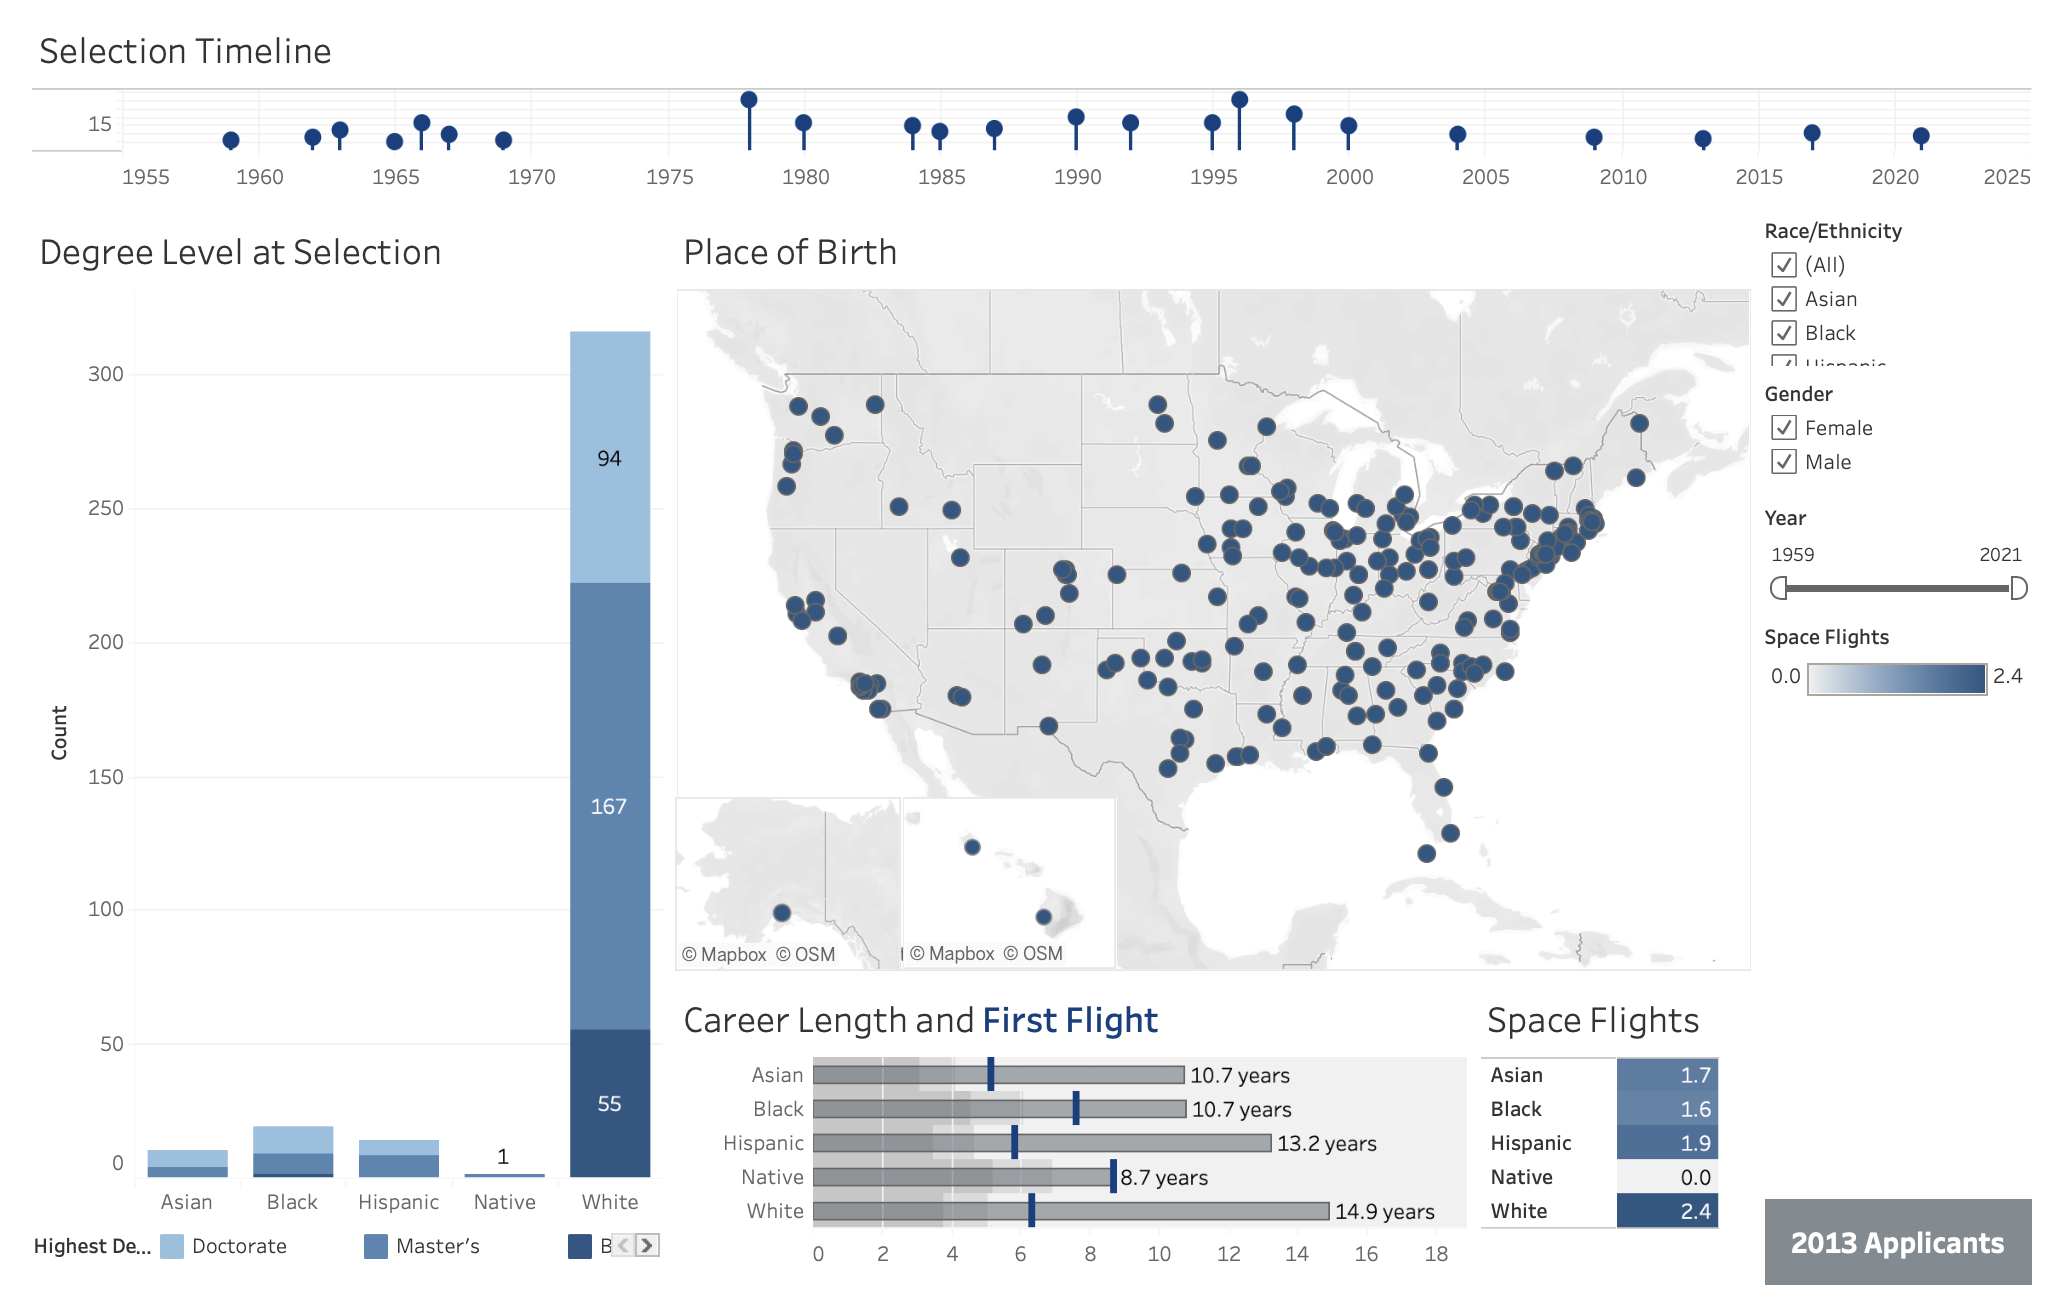

Layout of this report page (visuals, bound fields, positions):
{"tool":"tableau","page":{"name":"Dashboard 1","canvas":[1000,1000],"units":"permille","ordinal":0},"visuals":[{"type":"worksheet","title":"Selection Timeline","mark":"Automatic","rows":["Count (Astronauts)","Count (Astronauts)"],"cols":["Year (Astronauts)"],"box":[10.7,9.3,978.7,153.5]},{"type":"worksheet","title":"Degree Level at Selection","mark":"Automatic","rows":["Count (Astronauts)"],"cols":["Race/Ethnicity (Astronauts)"],"box":[10.7,162.8,282.2,774.4]},{"type":"worksheet","title":"Place of Birth","mark":"Automatic","box":[292.8,162.8,476.5,587.2]},{"type":"filter","title":"Selection Timeline","param":"[federated.0ywrk1g0wtzu3314f1k7y1yur643].[none:Race/Ethnicity (Astronauts):nk]","box":[769.3,162.8,220,169.8]},{"type":"filter","title":"Selection Timeline","param":"[federated.0ywrk1g0wtzu3314f1k7y1yur643].[none:Gender (Astronauts):nk]","box":[769.3,332.6,220,81.4]},{"type":"filter","title":"Selection Timeline","param":"[federated.0ywrk1g0wtzu3314f1k7y1yur643].[none:Year (Astronauts):qk]","box":[769.3,413.9,220,80.2]},{"type":"legend","title":"Space Flights","param":"[federated.0ywrk1g0wtzu3314f1k7y1yur643].[avg:Space Flights:qk]","box":[769.3,494.2,220,75.6]},{"type":"blank","box":[769.3,569.8,220,315.1]},{"type":"worksheet","title":"Place of Birth - Alaska","mark":"Automatic","box":[325,611.6,110.8,132.6]},{"type":"worksheet","title":"Place of Birth - Hawaii","mark":"Automatic","box":[436.7,612.8,105,130.2]},{"type":"worksheet","title":"Career Length and First Flight","mark":"Automatic","rows":["Race/Ethnicity (Astronauts)"],"cols":["Career Length"],"box":[292.8,750,352.2,240.7]},{"type":"worksheet","title":"Space Flights","mark":"Square","rows":["Race/Ethnicity (Astronauts)"],"box":[645,750,124.3,240.7]},{"type":"dashboard-object","box":[769.3,884.9,220,68.6]},{"type":"legend","title":"Degree Level at Selection","param":"[federated.0ywrk1g0wtzu3314f1k7y1yur643].[none:Highest Degree (Astronauts):nk]","box":[10.7,937.2,282.2,53.5]}]}

Visuals, with their boxes on the dashboard's canvas, which has no fixed pixel size, in thousandths of its width and height (x1, y1, x2, y2). These are canvas units, not pixel positions in the 2068x1302 screenshot, which may show the page scaled, cropped or inside an application window:
"Selection Timeline" worksheet: rect(11, 9, 989, 163)
"Degree Level at Selection" worksheet: rect(11, 163, 293, 937)
"Place of Birth" worksheet: rect(293, 163, 769, 750)
"Selection Timeline" filter: rect(769, 163, 989, 333)
"Selection Timeline" filter: rect(769, 333, 989, 414)
"Selection Timeline" filter: rect(769, 414, 989, 494)
"Space Flights" legend: rect(769, 494, 989, 570)
blank: rect(769, 570, 989, 885)
"Place of Birth - Alaska" worksheet: rect(325, 612, 436, 744)
"Place of Birth - Hawaii" worksheet: rect(437, 613, 542, 743)
"Career Length and First Flight" worksheet: rect(293, 750, 645, 991)
"Space Flights" worksheet (Square marks): rect(645, 750, 769, 991)
dashboard-object: rect(769, 885, 989, 954)
"Degree Level at Selection" legend: rect(11, 937, 293, 991)
